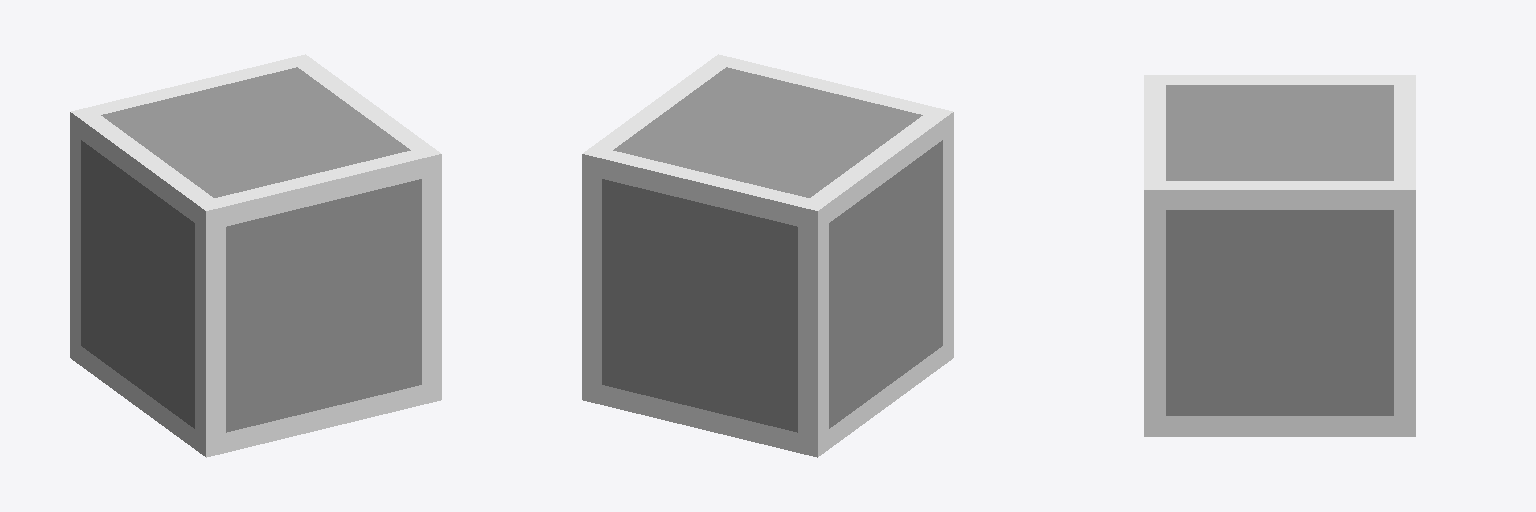
3 views of the same model, side by side, from view 1: azimuth 30°, elevation 25°; view 2: azimuth 150°, elevation 25°; view 3: azimuth 270°, elevation 25° (orthographic).
Visible parts, largest first — view 1: block; view 2: block; view 3: block.
Boxes of the visible parts, <box> form: block: <box>70,54,441,457</box>; block: <box>582,54,953,457</box>; block: <box>1144,75,1415,436</box>.
Bounding box in the file's own units: 1 × 1 × 1.
Materials: 1 (1 with a texture image).